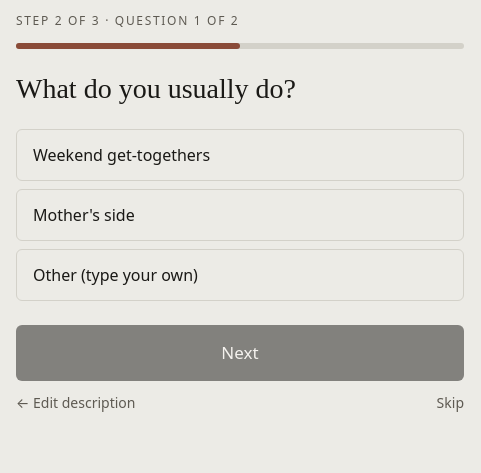
follow-up questions › keeps the person on the question when saving fails
The width and height of the screenshot is (481, 473).
Click the radio button "Weekend get-togethers" at (122,155), box [16, 129, 464, 181]
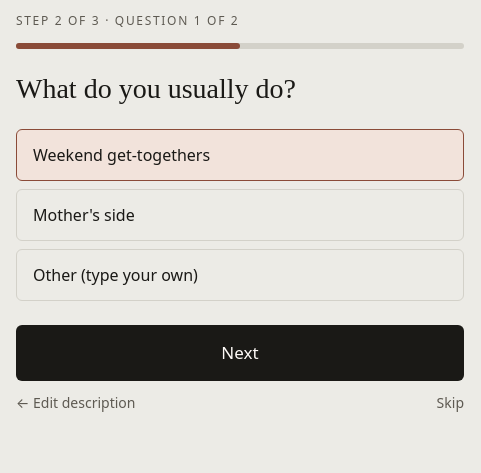
Click the button "Next" at (240,353), box [16, 325, 464, 381]
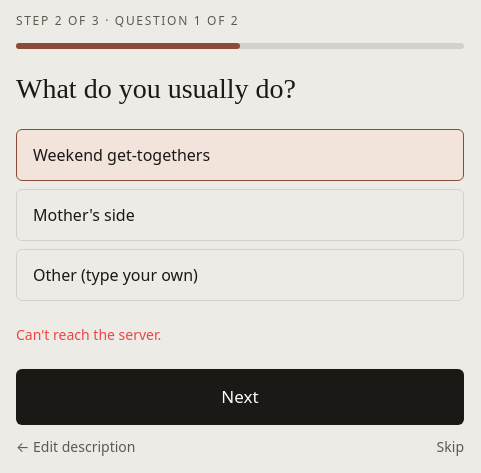
Expected: the heading "What do you usually do?" is shown, [16, 73, 296, 104]
Now the text "Can't reach the server." is shown, box [16, 325, 161, 344]
